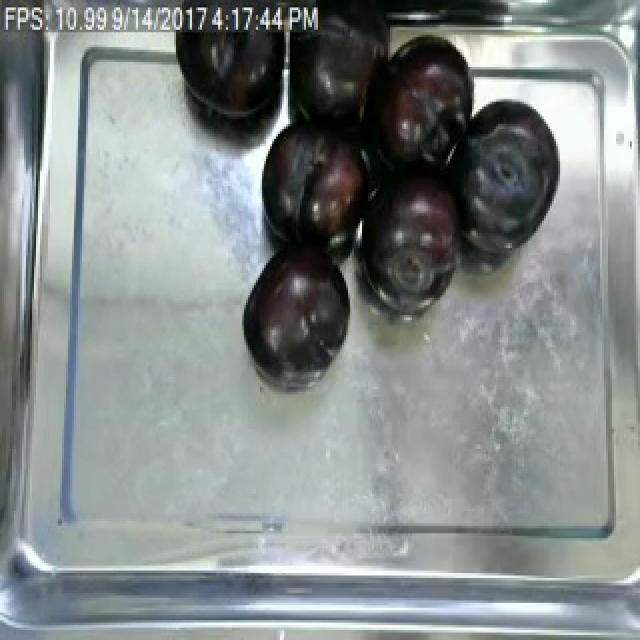Fruit: (442, 92, 570, 250), (354, 152, 480, 312), (254, 107, 380, 256), (360, 30, 480, 171), (238, 243, 356, 382)
